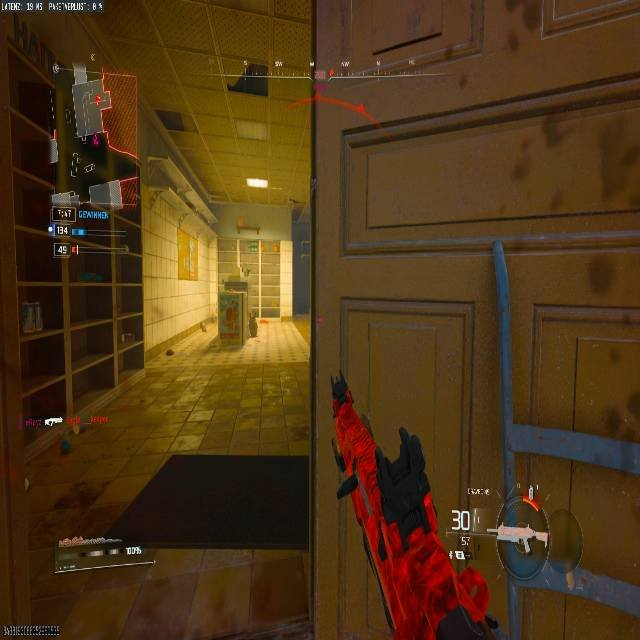head: (456, 567, 490, 619)
